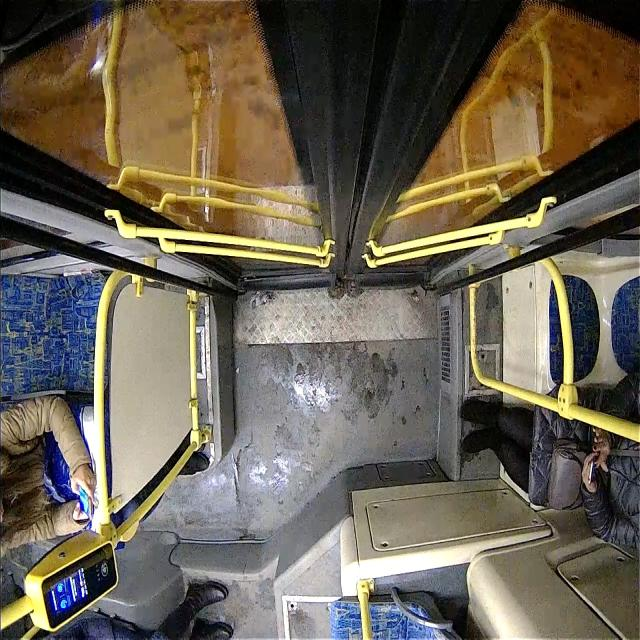bus-door: (0, 0, 640, 285)
